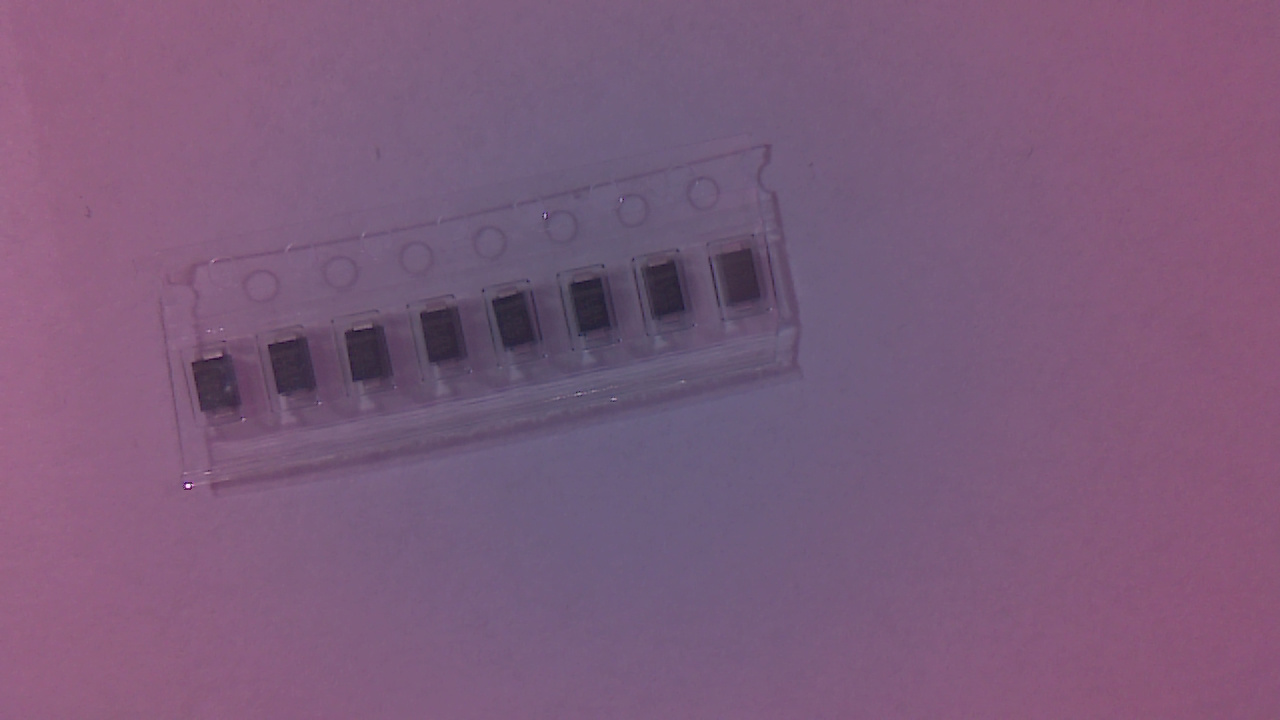Diode: (422, 306, 475, 376), (193, 352, 246, 422), (494, 292, 545, 362), (573, 277, 620, 352), (274, 338, 325, 407), (717, 251, 768, 320), (350, 322, 399, 393), (648, 260, 693, 333)
